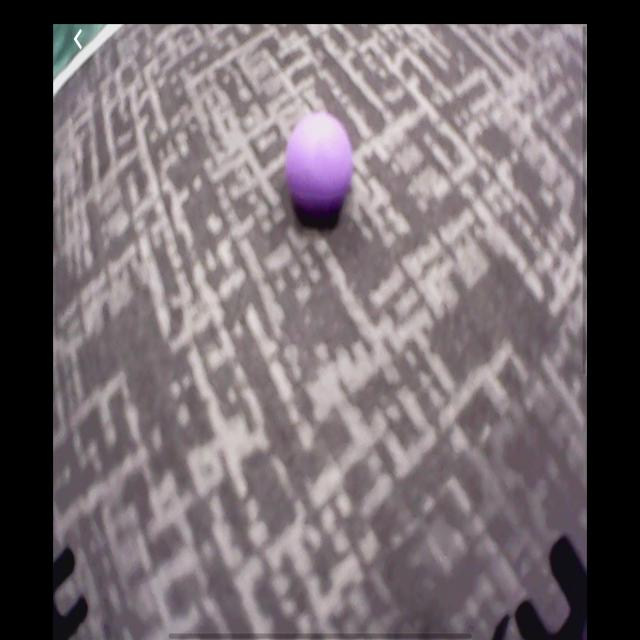ball: (286, 114, 354, 214)
